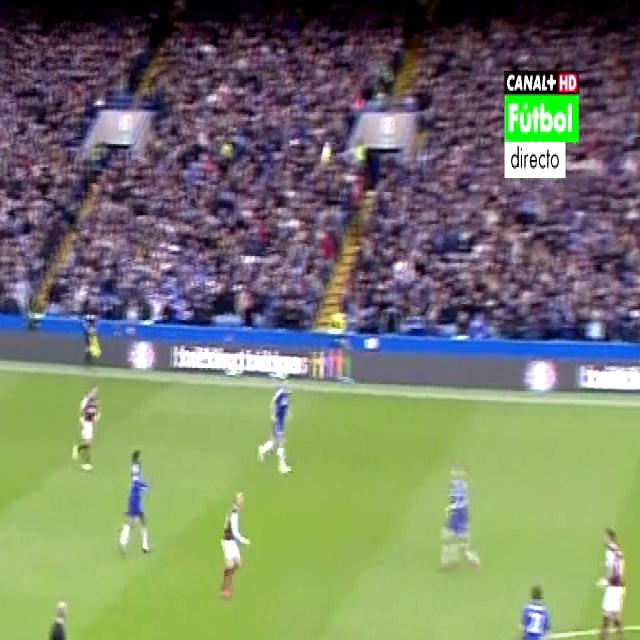referee: (37, 586, 76, 640)
soccer-player: (435, 448, 485, 582), (589, 508, 635, 640), (110, 437, 155, 561), (252, 364, 295, 482), (214, 481, 252, 611), (70, 370, 105, 479), (510, 569, 553, 640)
